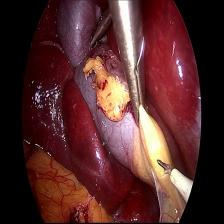Grasper: (118, 18, 150, 131), (90, 5, 110, 56)
Hook: (155, 155, 198, 205)
